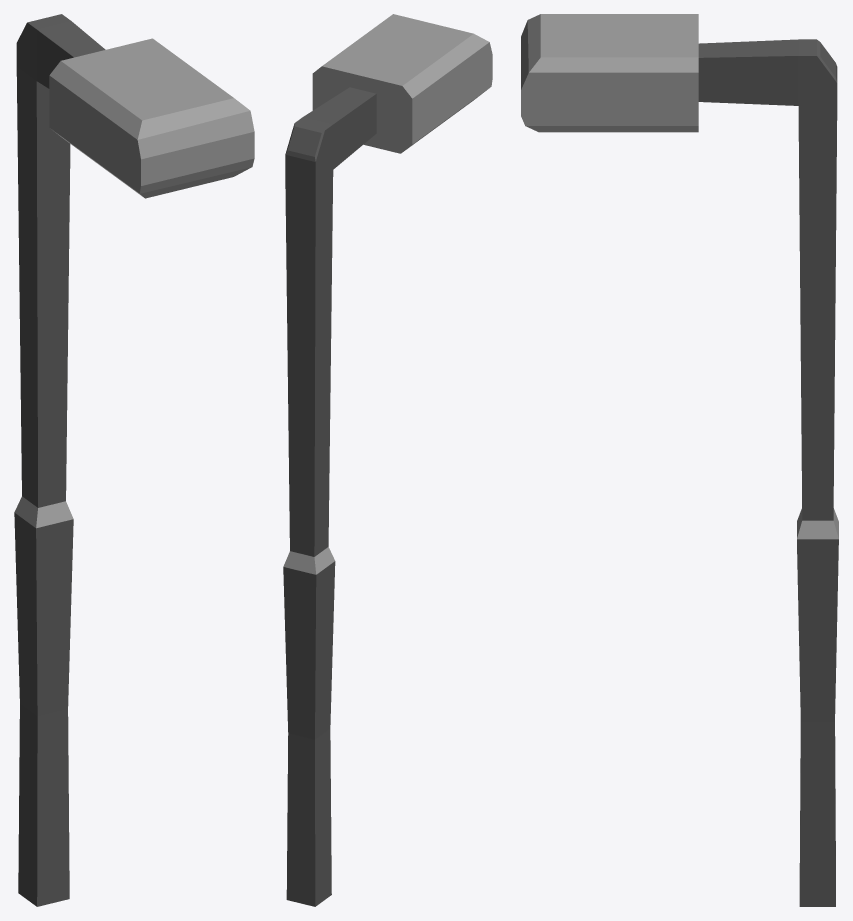
The model's file is LIGHT STREET2.001_Material.055.glb.
3 renders of one model, left to right at view 1: azimuth 30°, elevation 25°; view 2: azimuth 150°, elevation 25°; view 3: azimuth 270°, elevation 25°, orthographic. The views are drawn at different scales.
Visible parts, largest first — view 1: LIGHT STREET2.001_Material.055_0; view 2: LIGHT STREET2.001_Material.055_0; view 3: LIGHT STREET2.001_Material.055_0.
Part boxes in pixels (<box>): LIGHT STREET2.001_Material.055_0: <box>14,14,254,906</box>; LIGHT STREET2.001_Material.055_0: <box>283,14,492,906</box>; LIGHT STREET2.001_Material.055_0: <box>521,14,838,906</box>.
Bounding box in the file's own units: 0.1586 × 1.19 × 0.3966.
Materials: 1 (1 with a texture image).
